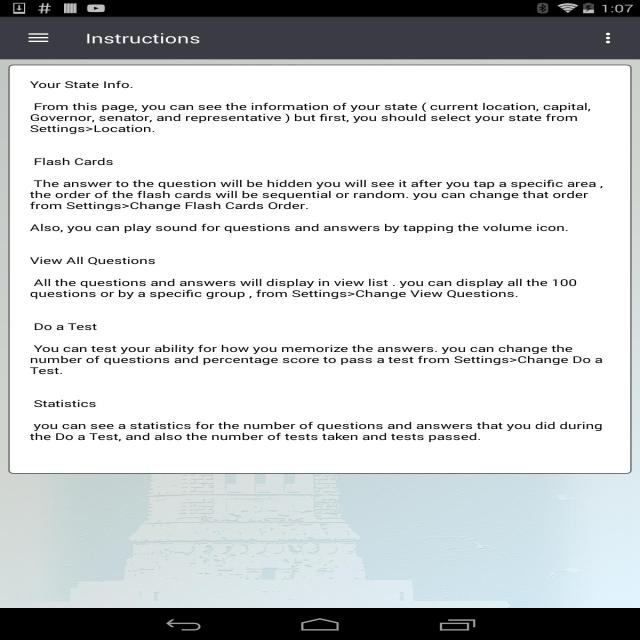button: (26, 28, 52, 50), (599, 27, 617, 49)
heading: (82, 30, 204, 49)
image: (2, 59, 640, 607)
text: (28, 78, 606, 454)
